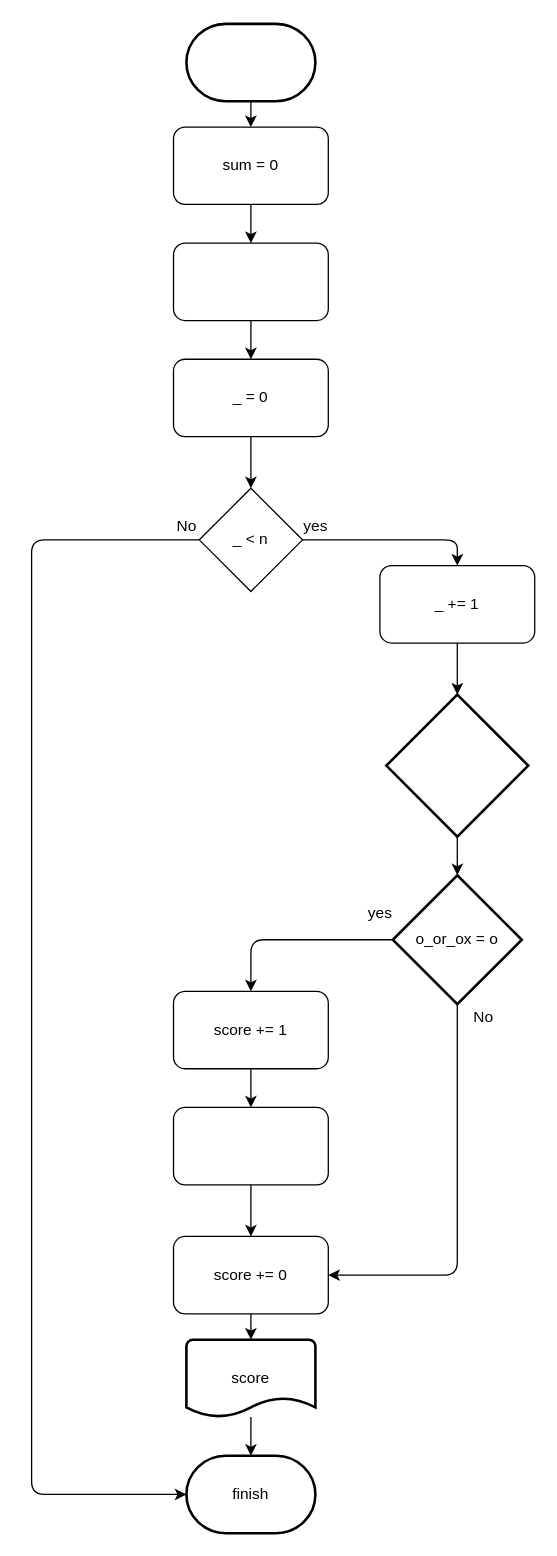
Image size: 557x1556. Some labels were removed from this diagram. Here are the shapes that lost their labels. From the top down, the centre of each, then its label:
At point (250, 62): "start".
At point (250, 281): "score = 0".
At point (456, 765): "o_or_x in input( )".
At point (250, 1145): "sum += score".
